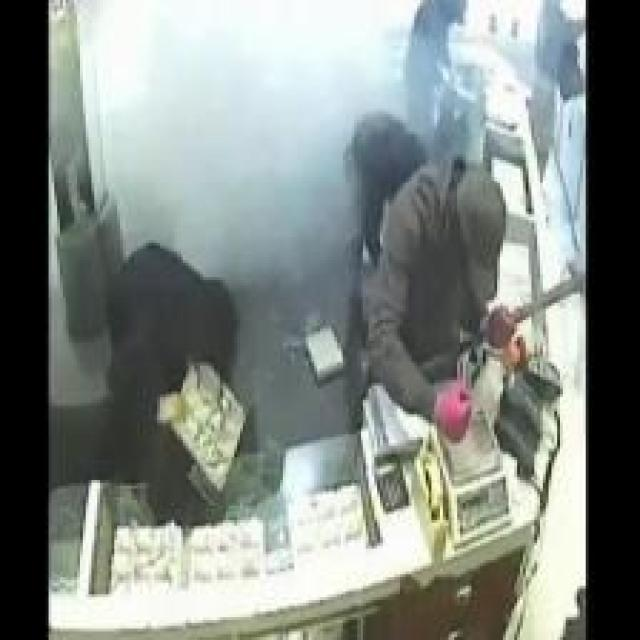fire: (77, 0, 360, 280)
